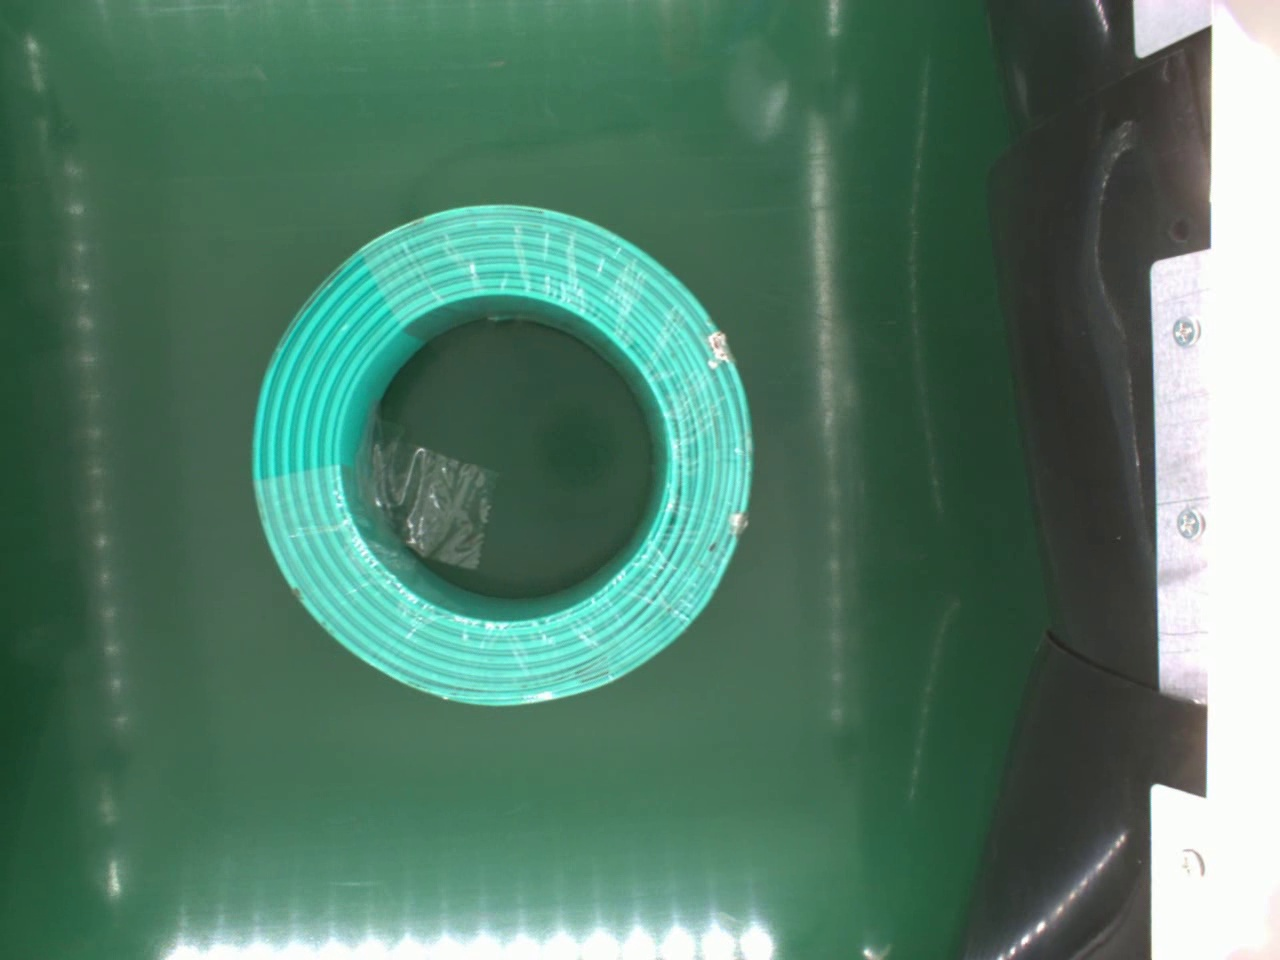green: (247, 202, 757, 713)
